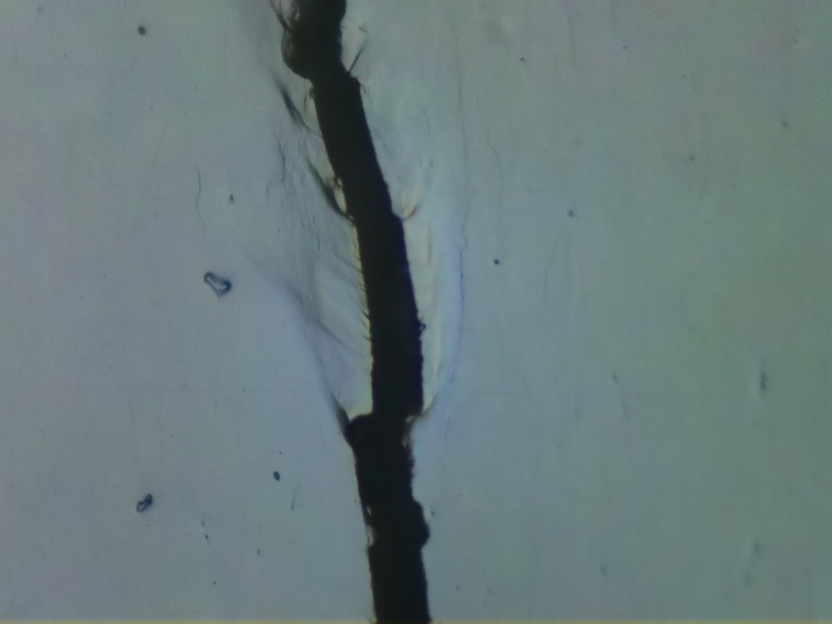crack: (278, 0, 436, 621)
